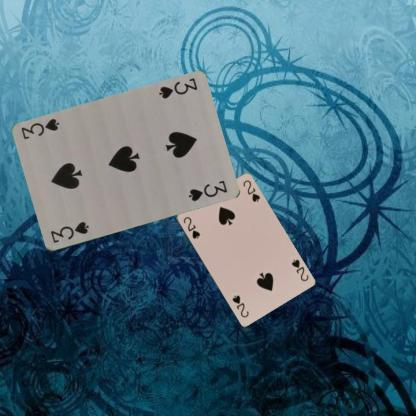2s: (180, 214, 201, 240), (289, 256, 310, 282)
3s: (156, 75, 198, 101), (48, 219, 90, 244)
